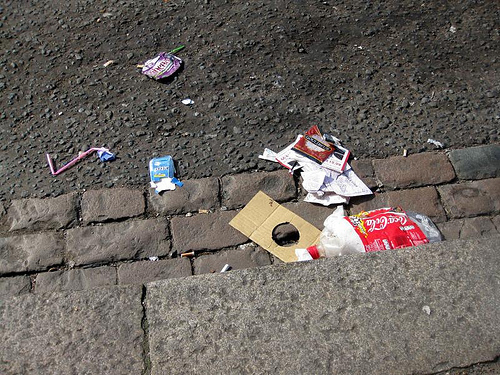litter: (256, 126, 372, 202), (227, 198, 324, 259), (324, 208, 440, 253), (46, 149, 110, 175), (147, 155, 179, 194), (139, 52, 182, 81)
